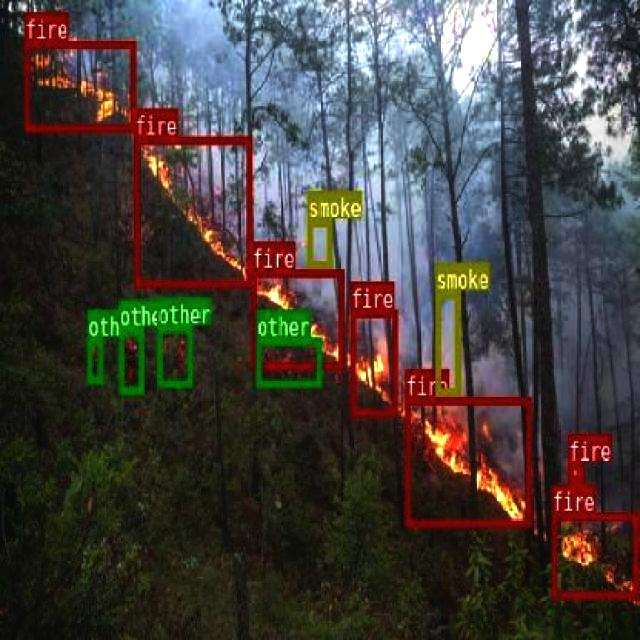fire: (133, 136, 250, 287), (405, 396, 530, 527), (24, 39, 134, 130), (252, 269, 342, 368), (552, 511, 636, 598), (350, 308, 396, 416), (567, 460, 584, 482)
smoke: (434, 290, 460, 395), (306, 217, 331, 268)
